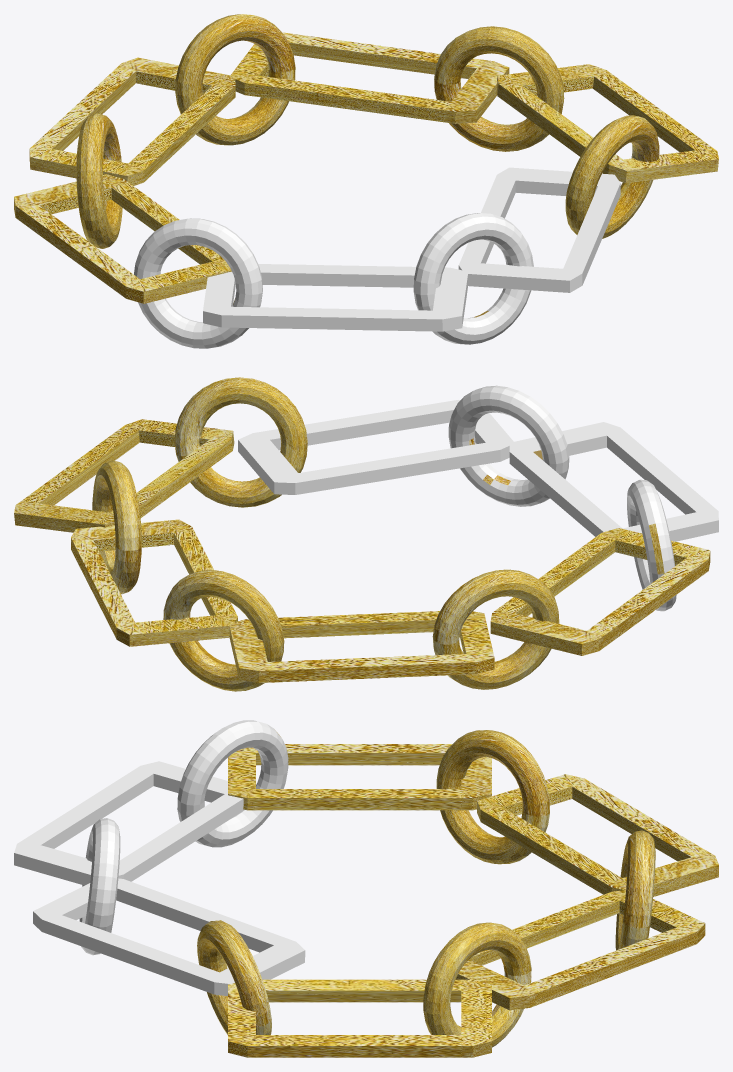
File: pulsera1.glb
The picture shows the model from 3 angles, top to bottom: view 1: azimuth 30°, elevation 25°; view 2: azimuth 150°, elevation 25°; view 3: azimuth 270°, elevation 25°; orthographic projection. The views are drawn at different scales.
Parts seen in each view (by area): view 1: Toroide.004, Cubo.002, Cubo, Cubo.001, Cubo.003, Toroide.002, Toroide.003, Toroide.005, Toroide.001; view 2: Toroide.004, Cubo.001, Cubo, Cubo.003, Cubo.002, Toroide.005, Toroide.001, Toroide.002, Toroide.003; view 3: Toroide.004, Cubo.003, Cubo, Cubo.001, Cubo.002, Toroide.001, Toroide.003, Toroide.005, Toroide.002.
Part boxes in pixels (<box>): Toroide.004: <box>134,167,620,348</box>; Cubo.002: <box>230,32,509,123</box>; Cubo: <box>14,174,231,303</box>; Cubo.001: <box>29,57,235,185</box>; Cubo.003: <box>496,64,718,183</box>; Toroide.002: <box>175,14,295,145</box>; Toroide.003: <box>434,26,564,151</box>; Toroide.005: <box>565,115,659,238</box>; Toroide.001: <box>76,113,122,248</box>; Toroide.004: <box>238,385,718,611</box>; Cubo.001: <box>229,611,494,682</box>; Cubo: <box>490,528,710,655</box>; Cubo.003: <box>14,419,234,532</box>; Cubo.002: <box>71,519,237,646</box>; Toroide.005: <box>174,377,307,507</box>; Toroide.001: <box>432,569,559,689</box>; Toroide.002: <box>163,570,284,691</box>; Toroide.003: <box>92,460,141,594</box>; Toroide.004: <box>14,720,305,996</box>; Cubo.003: <box>228,979,491,1057</box>; Cubo: <box>228,744,491,810</box>; Cubo.001: <box>477,774,718,896</box>; Cubo.002: <box>455,890,705,1010</box>; Toroide.001: <box>436,730,549,864</box>; Toroide.003: <box>423,922,531,1047</box>; Toroide.005: <box>197,920,271,1034</box>; Toroide.002: <box>615,830,655,950</box>.
Bounding box in the file's own units: 2.96 × 0.6037 × 3.01.
Materials: 2 (1 with a texture image).
